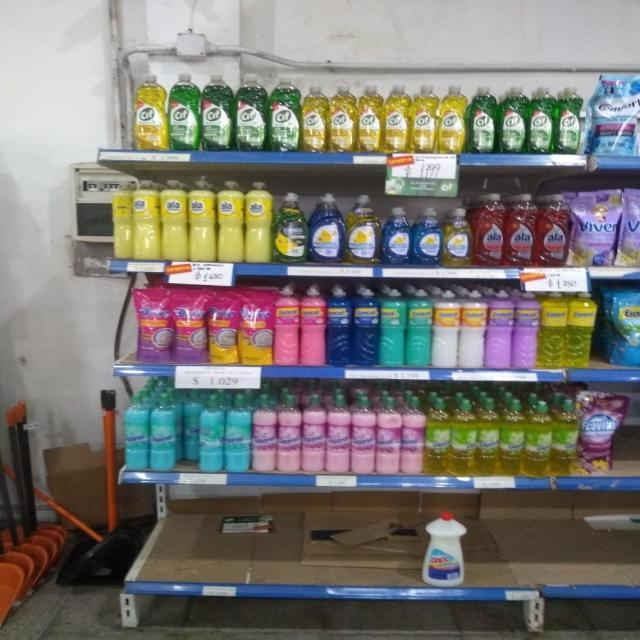ala_conc_rojo: (538, 192, 570, 268), (474, 192, 505, 268), (506, 192, 536, 268)
ala_crem_amarillo: (217, 180, 244, 263), (245, 181, 272, 263), (189, 179, 216, 261), (133, 179, 160, 260), (161, 179, 187, 261), (110, 180, 132, 260)
cif_conc_bot_amarilla: (131, 73, 167, 151), (438, 84, 466, 154), (328, 84, 356, 153), (383, 83, 410, 153), (411, 84, 437, 154), (302, 84, 327, 153), (357, 84, 382, 152)
cif_conc_botella_verde: (168, 72, 200, 151), (201, 74, 233, 152), (268, 76, 300, 152), (235, 74, 266, 152), (468, 85, 497, 154), (556, 85, 584, 155), (499, 85, 527, 154), (528, 85, 555, 154)
drive: (174, 288, 206, 364), (240, 290, 272, 365), (208, 290, 238, 364)
esencial: (300, 286, 326, 366), (274, 286, 300, 366), (406, 289, 432, 368), (380, 288, 405, 368), (327, 287, 352, 367)
gigante: (150, 389, 180, 472), (197, 391, 224, 472), (224, 392, 251, 472), (122, 392, 149, 470)
magistral_con_amarillo: (346, 193, 380, 265), (444, 206, 472, 268)
magistral_con_azul: (309, 193, 344, 264), (413, 206, 442, 267), (382, 206, 411, 267)
